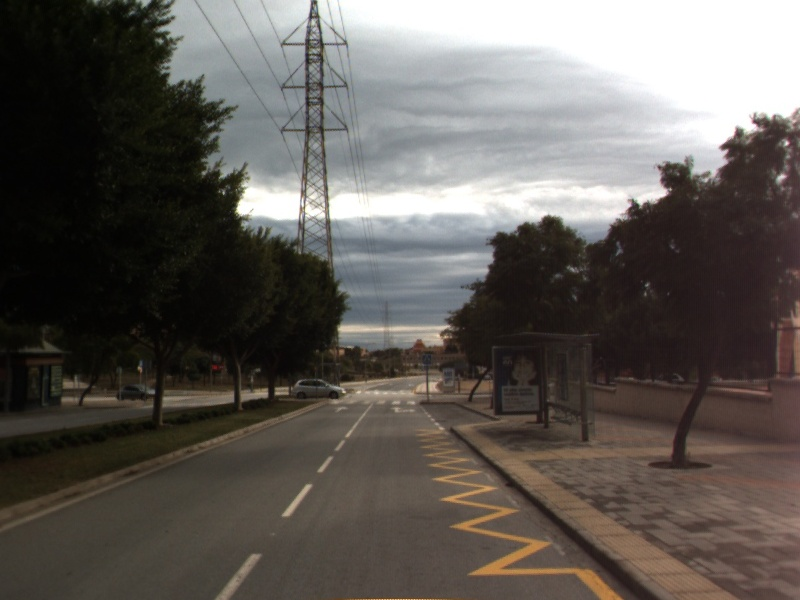STRAIGHT: (332, 404, 352, 415)
STRAIGHT_RIGHT: (388, 405, 418, 415)
